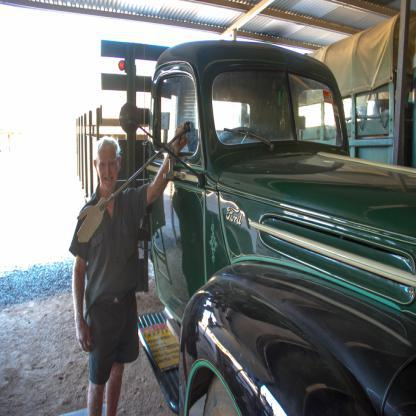car: (75, 25, 416, 394)
